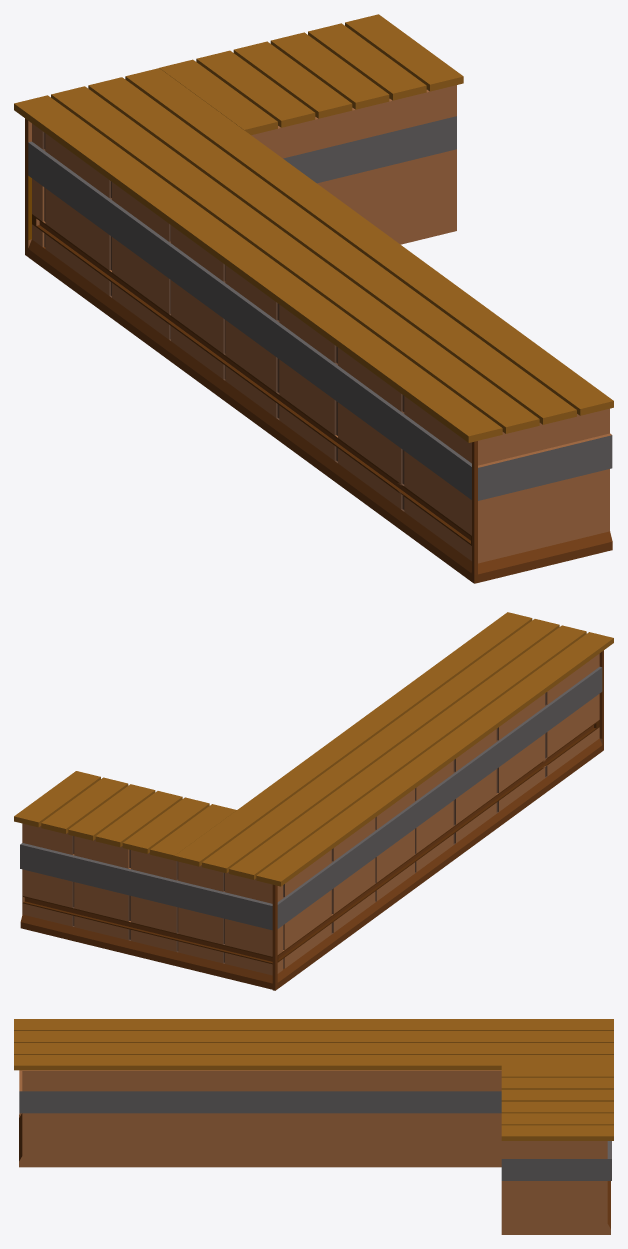
The model's file is bartablefbx.fbx.
3 renders of one model, top to bottom at view 1: azimuth 30°, elevation 25°; view 2: azimuth 150°, elevation 25°; view 3: azimuth 270°, elevation 25°, orthographic. The views are drawn at different scales.
Parts seen in each view (by area): view 1: Bar.005, Bar.001, Bar.003, Bar.002, Bar.004, Bar.007, Bar.008, Bar.009, Bar.010, Bar.011, Bar.006; view 2: Bar.005, Bar.001, Bar.004, Bar.002, Bar.003, Bar.009, Bar.008, Bar.007, Bar.010, Bar.011, Bar.006; view 3: Bar.005, Bar.004, Bar.001, Bar.002, Bar.003, Bar.011, Bar.006, Bar.007, Bar.008, Bar.010, Bar.009.
Boxes of the visible parts, x1,y1,x2,y2 form: Bar.005: [25, 85, 612, 583]; Bar.001: [14, 95, 502, 442]; Bar.003: [88, 77, 576, 424]; Bar.002: [51, 86, 539, 433]; Bar.004: [125, 68, 613, 415]; Bar.007: [196, 50, 315, 127]; Bar.008: [233, 41, 352, 118]; Bar.009: [270, 32, 389, 109]; Bar.010: [308, 23, 426, 100]; Bar.011: [345, 14, 463, 91]; Bar.006: [159, 59, 277, 135]; Bar.005: [20, 650, 603, 990]; Bar.001: [256, 632, 613, 886]; Bar.004: [174, 612, 532, 866]; Bar.002: [229, 625, 586, 879]; Bar.003: [202, 619, 559, 873]; Bar.009: [68, 784, 155, 840]; Bar.008: [95, 791, 182, 847]; Bar.007: [122, 797, 209, 853]; Bar.010: [41, 777, 128, 833]; Bar.011: [14, 771, 100, 827]; Bar.006: [150, 804, 236, 860]; Bar.005: [19, 1070, 611, 1234]; Bar.004: [14, 1055, 613, 1070]; Bar.001: [14, 1019, 613, 1030]; Bar.002: [14, 1031, 613, 1042]; Bar.003: [14, 1043, 613, 1054]; Bar.011: [501, 1125, 613, 1140]; Bar.006: [501, 1065, 613, 1077]; Bar.007: [501, 1077, 613, 1089]; Bar.008: [501, 1089, 613, 1101]; Bar.010: [501, 1113, 613, 1125]; Bar.009: [501, 1101, 613, 1113].
Size of the model in its own units: 705 by 282 by 1522.
